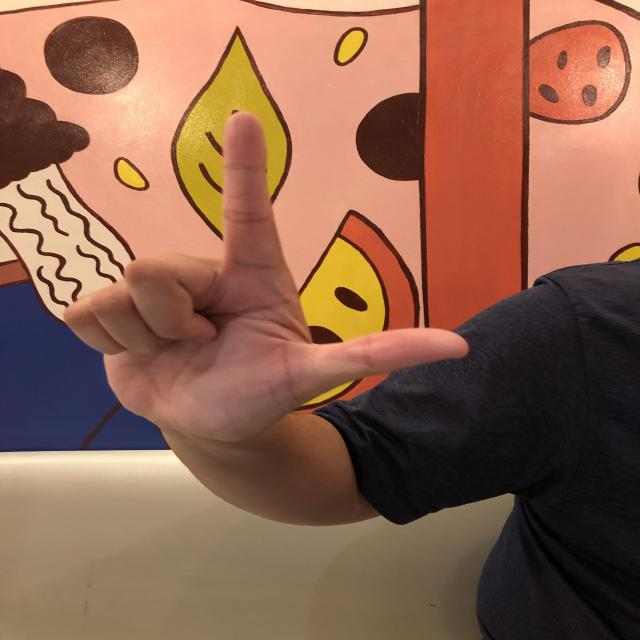L: (61, 110, 471, 443)
